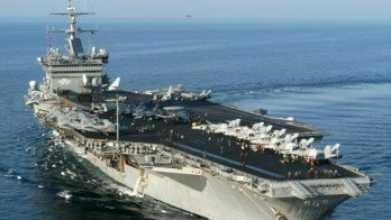warship: (37, 1, 353, 217)
